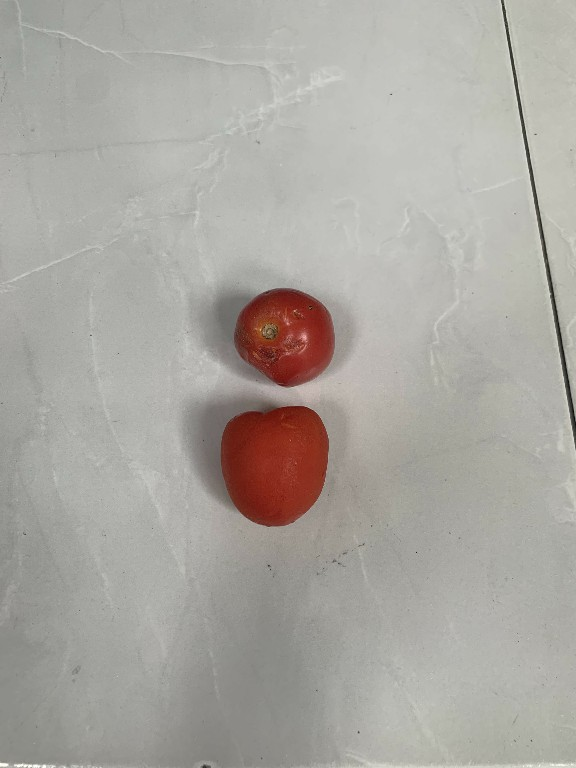NG: (229, 284, 338, 390)
OK: (214, 401, 334, 535)
